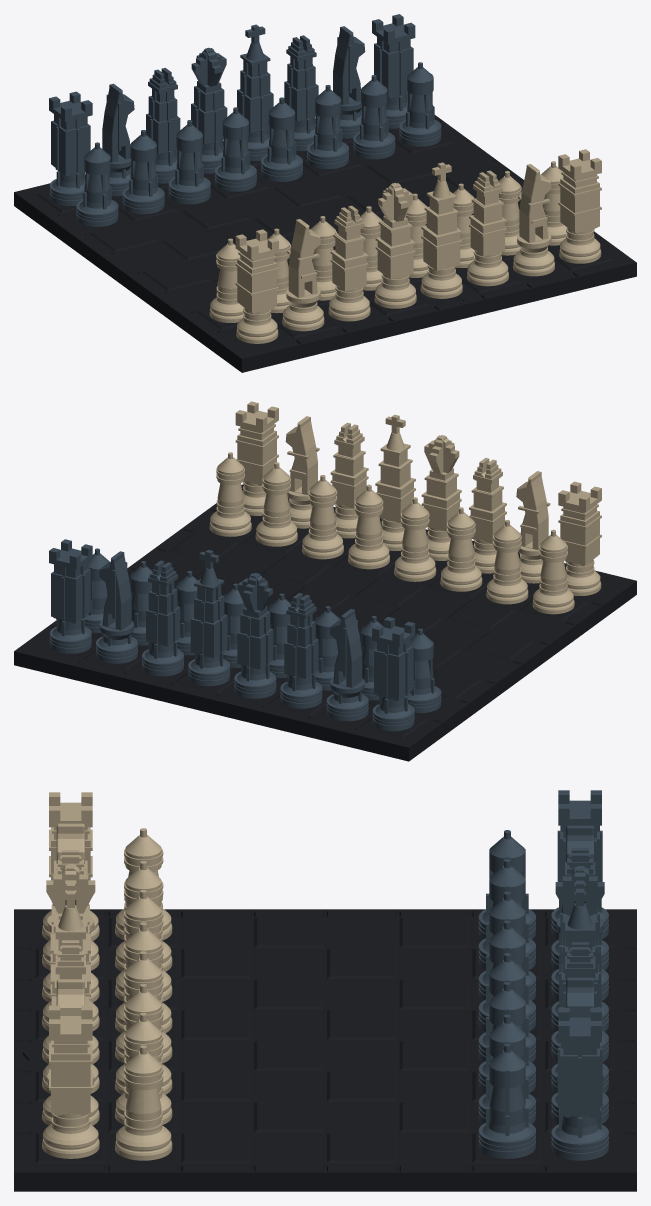
Rendered from manhattan-nocturne.glb.
The picture shows the model from 3 angles, top to bottom: view 1: azimuth 30°, elevation 25°; view 2: azimuth 150°, elevation 25°; view 3: azimuth 270°, elevation 25°; orthographic projection. The views are drawn at different scales.
Visible parts, largest first — view 1: board, stone_rook_a1, stone_rook_h1, stone_queen_d1, stone_king_e1, steel_rook_a8, stone_bishop_f1, stone_bishop_c1, steel_rook_h8, stone_knight_b1, steel_queen_d8, stone_knight_g1 (+21 smaller); view 2: board, steel_rook_a8, steel_rook_h8, steel_queen_d8, steel_king_e8, stone_rook_a1, steel_bishop_f8, steel_bishop_c8, stone_rook_h1, stone_queen_d1, stone_king_e1, steel_knight_b8 (+21 smaller); view 3: board, steel_rook_h8, stone_rook_h1, steel_pawn_h7, stone_pawn_h2, steel_rook_a8, stone_queen_d1, stone_rook_a1, steel_king_e8, steel_queen_d8, stone_king_e1, steel_pawn_d7 (+21 smaller).
Boxes of the visible parts, x1=… form: board: x1=14, y1=115, x2=636, y2=372; stone_rook_a1: x1=235, y1=229, x2=278, y2=343; stone_rook_h1: x1=558, y1=149, x2=601, y2=263; stone_queen_d1: x1=374, y1=183, x2=416, y2=308; stone_king_e1: x1=420, y1=162, x2=462, y2=298; steel_rook_a8: x1=49, y1=91, x2=92, y2=205; stone_bishop_f1: x1=467, y1=170, x2=508, y2=286; stone_bishop_c1: x1=328, y1=205, x2=370, y2=321; steel_rook_h8: x1=372, y1=14, x2=415, y2=128; stone_knight_b1: x1=282, y1=219, x2=324, y2=331; steel_queen_d8: x1=191, y1=47, x2=227, y2=173; stone_knight_g1: x1=513, y1=164, x2=554, y2=276; board: x1=14, y1=484, x2=636, y2=761; steel_rook_a8: x1=372, y1=616, x2=415, y2=731; steel_rook_h8: x1=49, y1=539, x2=92, y2=653; steel_queen_d8: x1=234, y1=573, x2=276, y2=698; steel_king_e8: x1=188, y1=549, x2=230, y2=686; stone_rook_a1: x1=558, y1=481, x2=601, y2=595; steel_bishop_f8: x1=142, y1=560, x2=183, y2=676; steel_bishop_c8: x1=280, y1=593, x2=322, y2=708; stone_rook_h1: x1=235, y1=401, x2=278, y2=515; stone_queen_d1: x1=421, y1=435, x2=461, y2=560; stone_king_e1: x1=375, y1=414, x2=415, y2=550; steel_knight_b8: x1=326, y1=609, x2=368, y2=721; board: x1=14, y1=909, x2=636, y2=1191; steel_rook_h8: x1=551, y1=1007, x2=608, y2=1160; stone_rook_h1: x1=42, y1=1005, x2=99, y2=1158; steel_pawn_h7: x1=478, y1=1043, x2=535, y2=1158; stone_pawn_h2: x1=115, y1=1045, x2=172, y2=1160; steel_rook_a8: x1=551, y1=790, x2=608, y2=939; stone_queen_d1: x1=42, y1=864, x2=99, y2=1031; stone_rook_a1: x1=42, y1=792, x2=99, y2=940; steel_king_e8: x1=551, y1=880, x2=608, y2=1061; steel_queen_d8: x1=551, y1=866, x2=608, y2=1031; stone_king_e1: x1=42, y1=882, x2=99, y2=1063; steel_pawn_d7: x1=478, y1=920, x2=535, y2=1031.
Size of the model in its own units: 0.244 by 0.0833 by 0.244.
